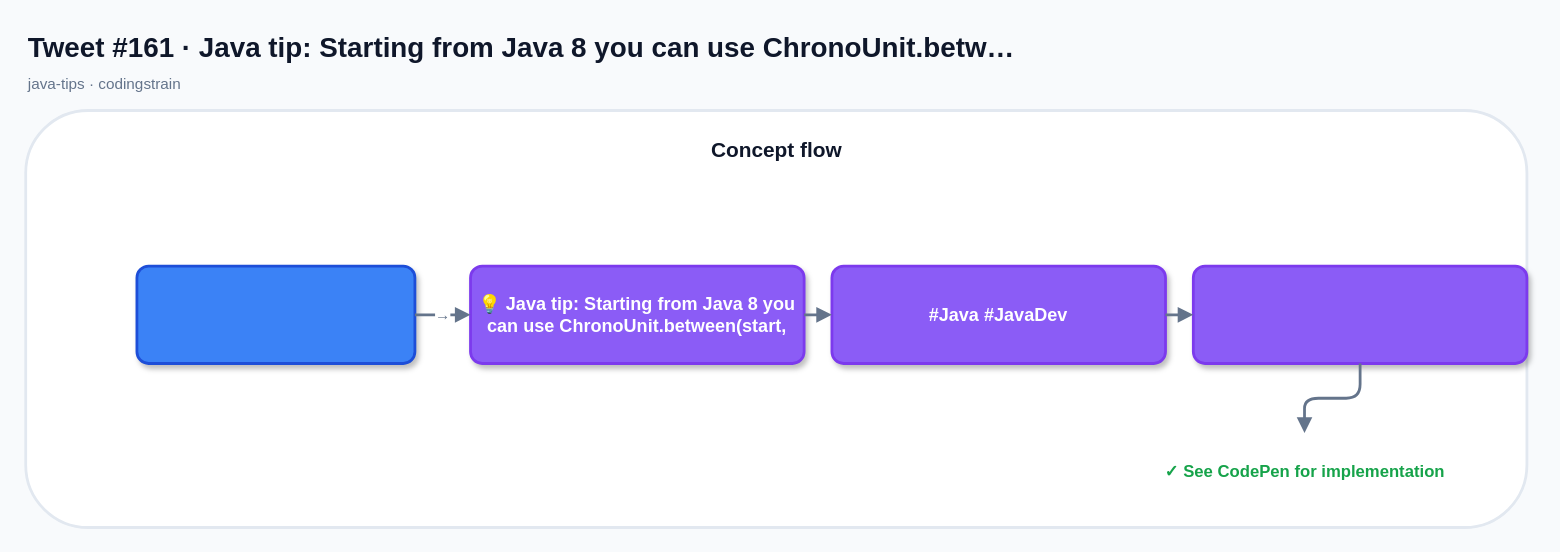
This 1560x552 diagram has some shape labels left out. The centre of each missing label's shape, as x and y in pixels:
"Problem / context" belongs at [276,316].
"Runnable sample: `java-tips`" belongs at [1361,316].
